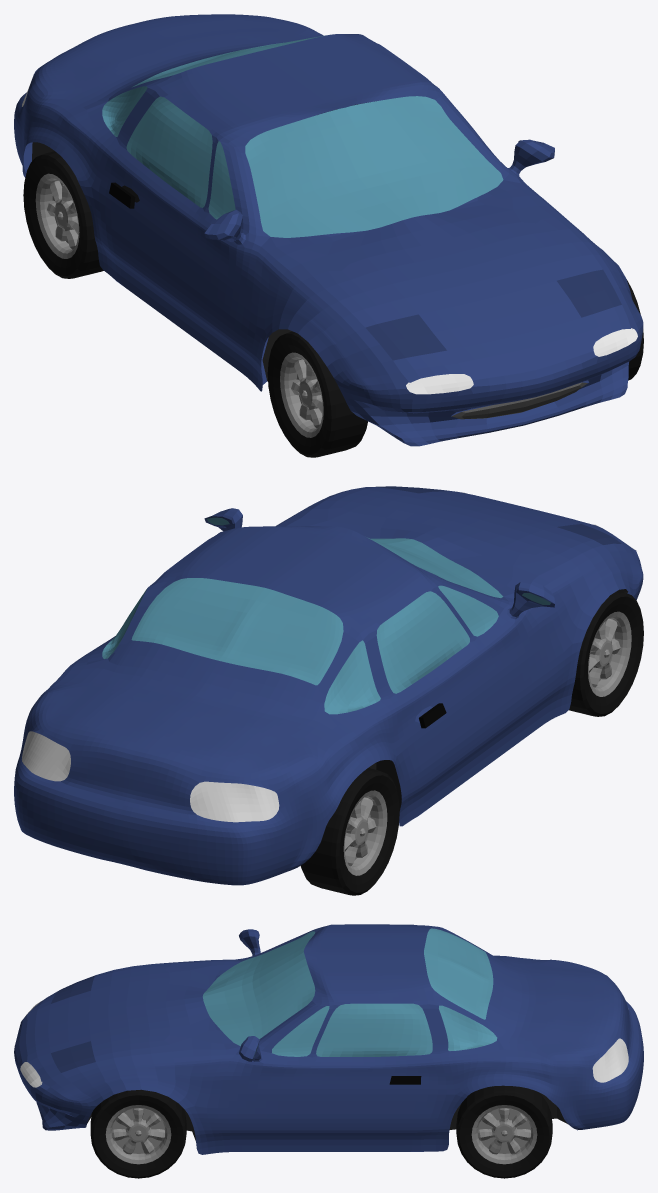
The model's file is roadster.fbx.
3 renders of one model, top to bottom at view 1: azimuth 30°, elevation 25°; view 2: azimuth 150°, elevation 25°; view 3: azimuth 270°, elevation 25°, orthographic. The views are drawn at different scales.
Visible parts, largest first — view 1: Chassis, Windscreen.002, FR, RR, side windows.002, Headlights.002, Grille.002, front side windows.002, Body.006, Underside.001, Rear Window.002; view 2: Chassis, Rear Window.002, RR, FR, side windows.002, Rear Lights.003, Body.006, Windscreen.002, front side windows.002, Underside.001; view 3: Chassis, Windscreen.002, RL, FL, side windows.002, Rear Window.002, Body.006, front side windows.002, Rear Lights.003, Underside.001.
Boxes of the visible parts, x1,y1,x2,y2 form: Chassis: (14,14,643,446); Windscreen.002: (245,96,503,237); FR: (267,331,367,457); RR: (23,151,103,278); side windows.002: (126,96,212,207); Headlights.002: (406,328,637,394); Grille.002: (451,382,587,419); front side windows.002: (208,141,235,219); Body.006: (102,86,147,136); Underside.001: (23,142,588,416); Rear Window.002: (132,35,325,87); Chassis: (14,486,643,885); Rear Window.002: (131,578,343,685); RR: (300,768,399,895); FR: (569,590,643,716); side windows.002: (376,591,469,693); Rear Lights.003: (22,731,279,822); Body.006: (102,589,380,714); Windscreen.002: (367,537,503,598); front side windows.002: (438,585,498,636); Underside.001: (22,589,627,885); Chassis: (14,924,643,1154); Windscreen.002: (202,931,315,1046); RL: (456,1085,552,1178); FL: (90,1089,186,1178); side windows.002: (316,1003,432,1056); Rear Window.002: (424,928,493,1019); Body.006: (439,1005,497,1050); front side windows.002: (272,1006,329,1056); Rear Lights.003: (592,1038,628,1082); Underside.001: (87,1092,632,1151).
Size of the model in its own units: 3943 by 2445 by 8193.
